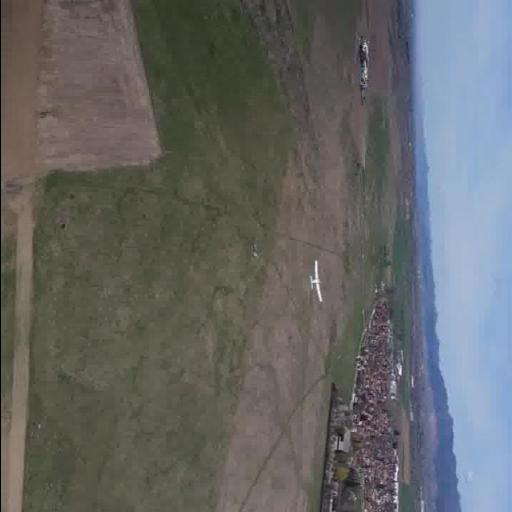uav: (304, 261, 326, 307)
